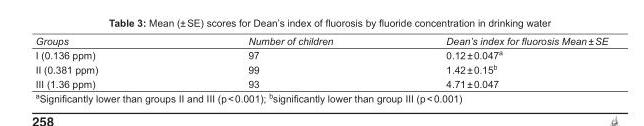table: (34, 34, 607, 89)
table column: (388, 34, 607, 89), (172, 34, 388, 89), (34, 34, 172, 89)
table row: (34, 46, 607, 61), (34, 61, 607, 76), (34, 76, 607, 89), (34, 34, 607, 46)
